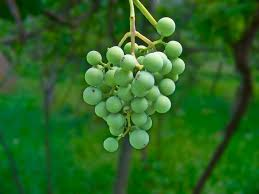grapes: (84, 19, 179, 158)
